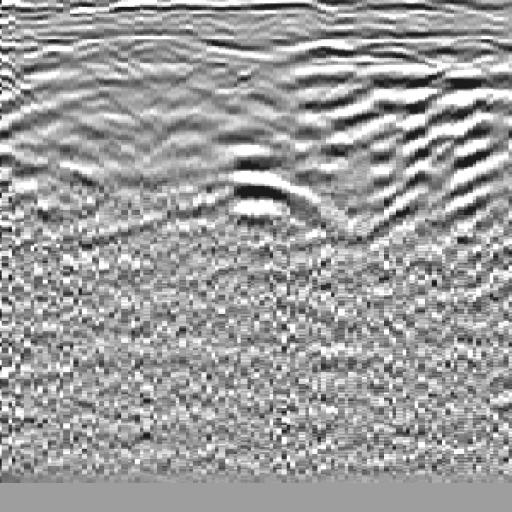metalic: (168, 127, 340, 270)
nonmetalic: (365, 39, 512, 277)
